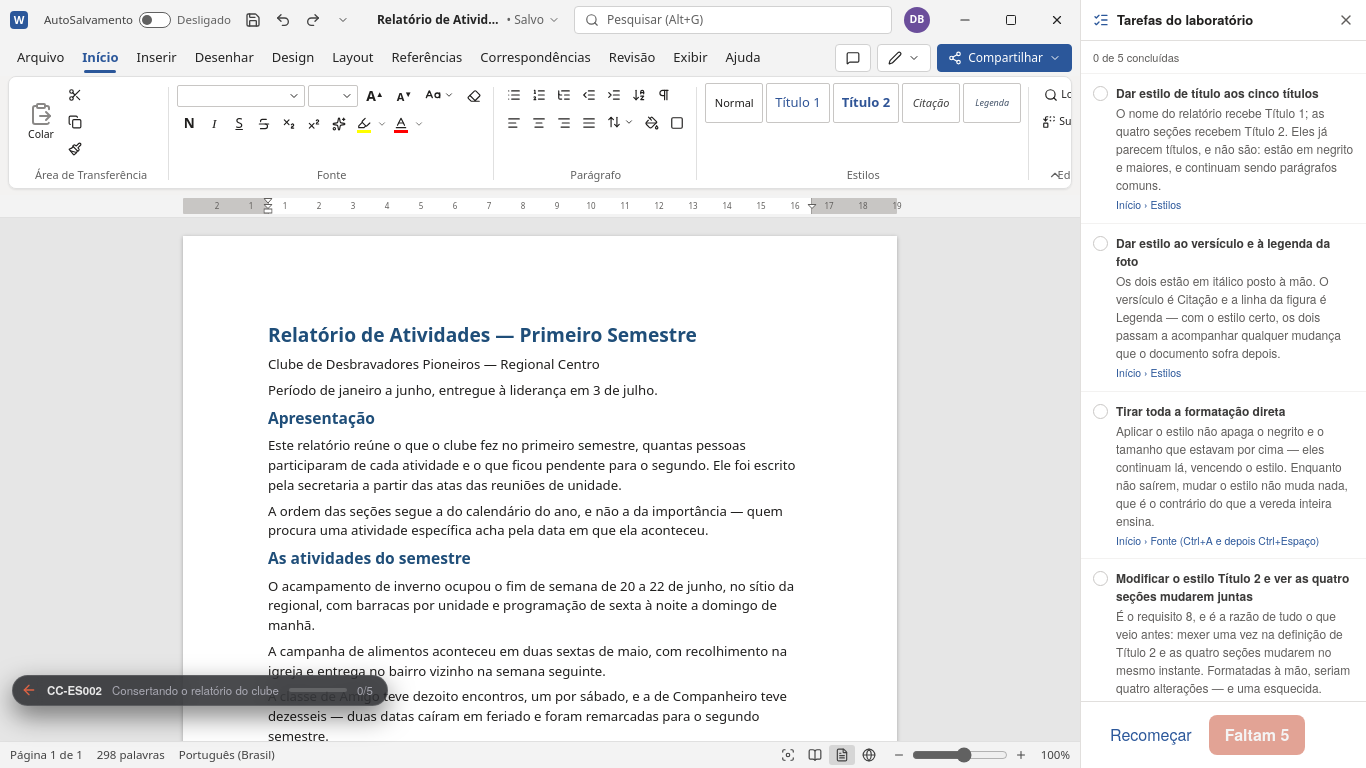
o relatório pode ser vencido clicando › aplicar estilo sem parágrafo escolhido avisa, em vez de aplicar no nada
The width and height of the screenshot is (1366, 768).
Click the button with class "wr-estilo" showing "Título 1": (798, 103) x1=766 y1=83 x2=830 y2=123
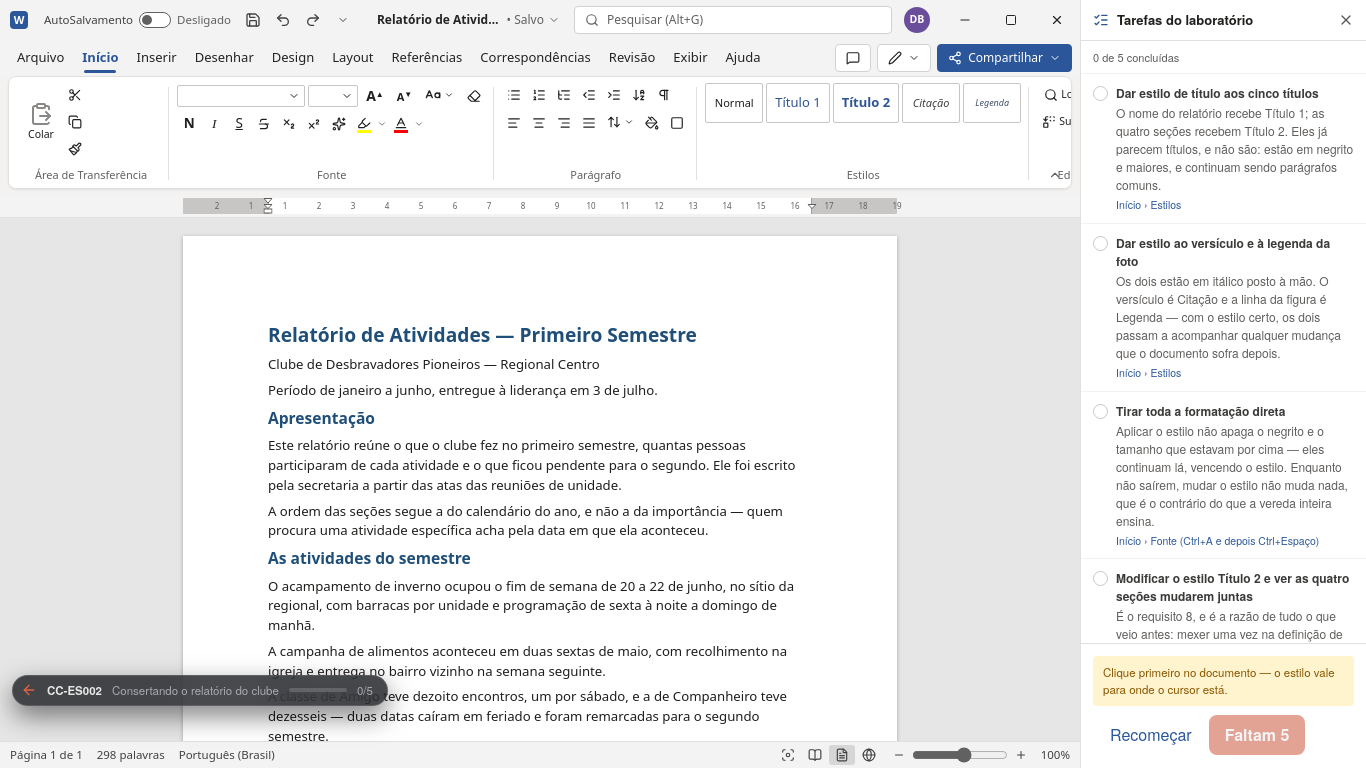
Check: the button with class "wr-estilo" reads "Normal", box x1=705 y1=83 x2=763 y2=123
Check: the text "Clique primeiro no documento" is shown, box x1=1103 y1=664 x2=1335 y2=697
